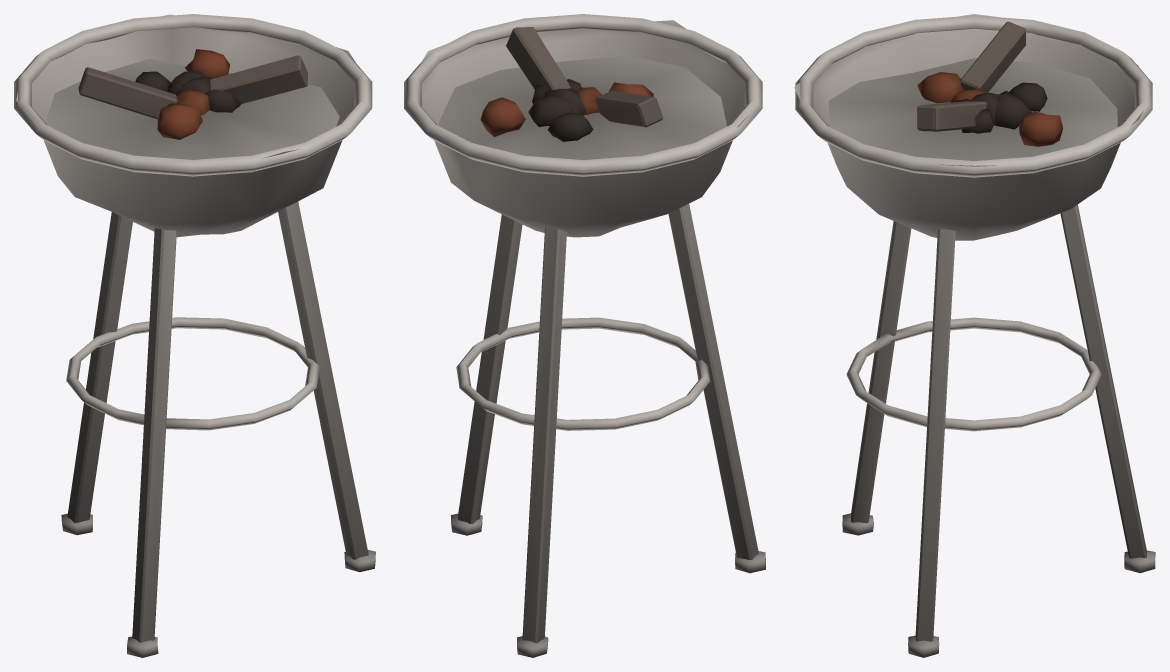
File: brazier.glb
3 renders of one model, left to right at view 1: azimuth 30°, elevation 25°; view 2: azimuth 150°, elevation 25°; view 3: azimuth 270°, elevation 25°, orthographic.
Parts seen in each view (by area): view 1: brazier; view 2: brazier; view 3: brazier.
Boxes of the visible parts, left/top/right/bottom form: brazier: left=14, top=14, right=375, bottom=657; brazier: left=404, top=14, right=765, bottom=657; brazier: left=794, top=14, right=1155, bottom=657.
Size of what is drawn, in the model's own units: 0.7161 by 1.14 by 0.7132.
